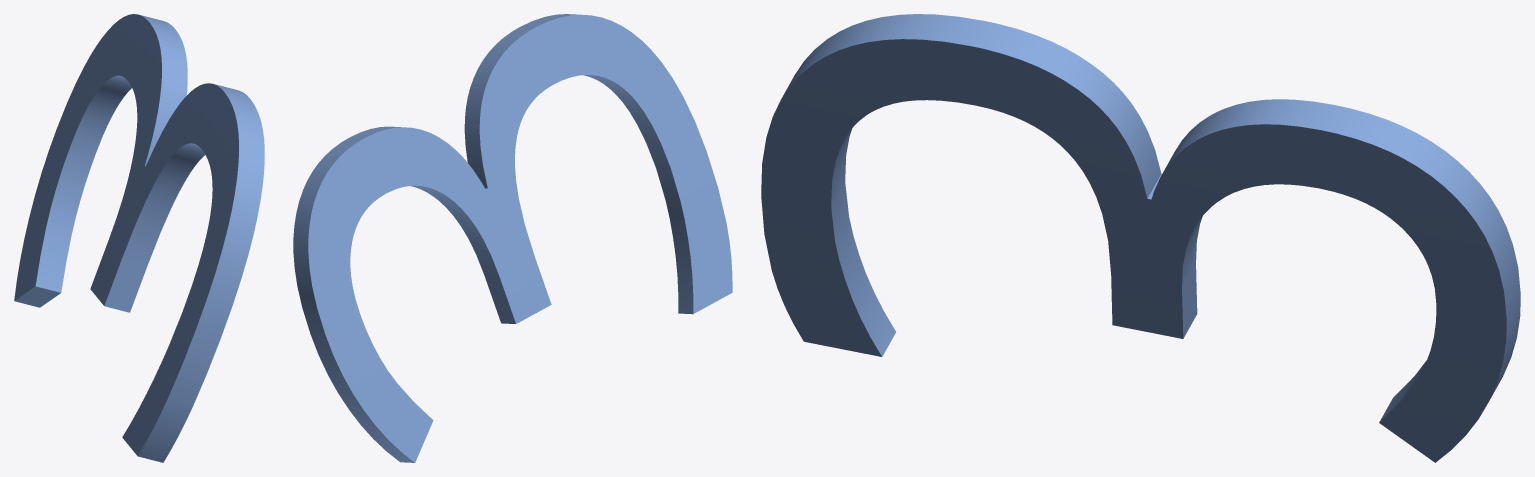
The model's file is New_Number_3.gltf.
3 views of the same model, side by side, from view 1: azimuth 30°, elevation 25°; view 2: azimuth 150°, elevation 25°; view 3: azimuth 270°, elevation 25° (orthographic). The views are drawn at different scales.
Parts seen in each view (by area): view 1: Part 633; view 2: Part 633; view 3: Part 633.
Part boxes in pixels (x1=…): Part 633: x1=14, y1=14, x2=264, y2=462; Part 633: x1=293, y1=14, x2=732, y2=462; Part 633: x1=761, y1=14, x2=1520, y2=462.
Size of the model in its own units: 0.00246 by 0.0034 by 0.00511.
